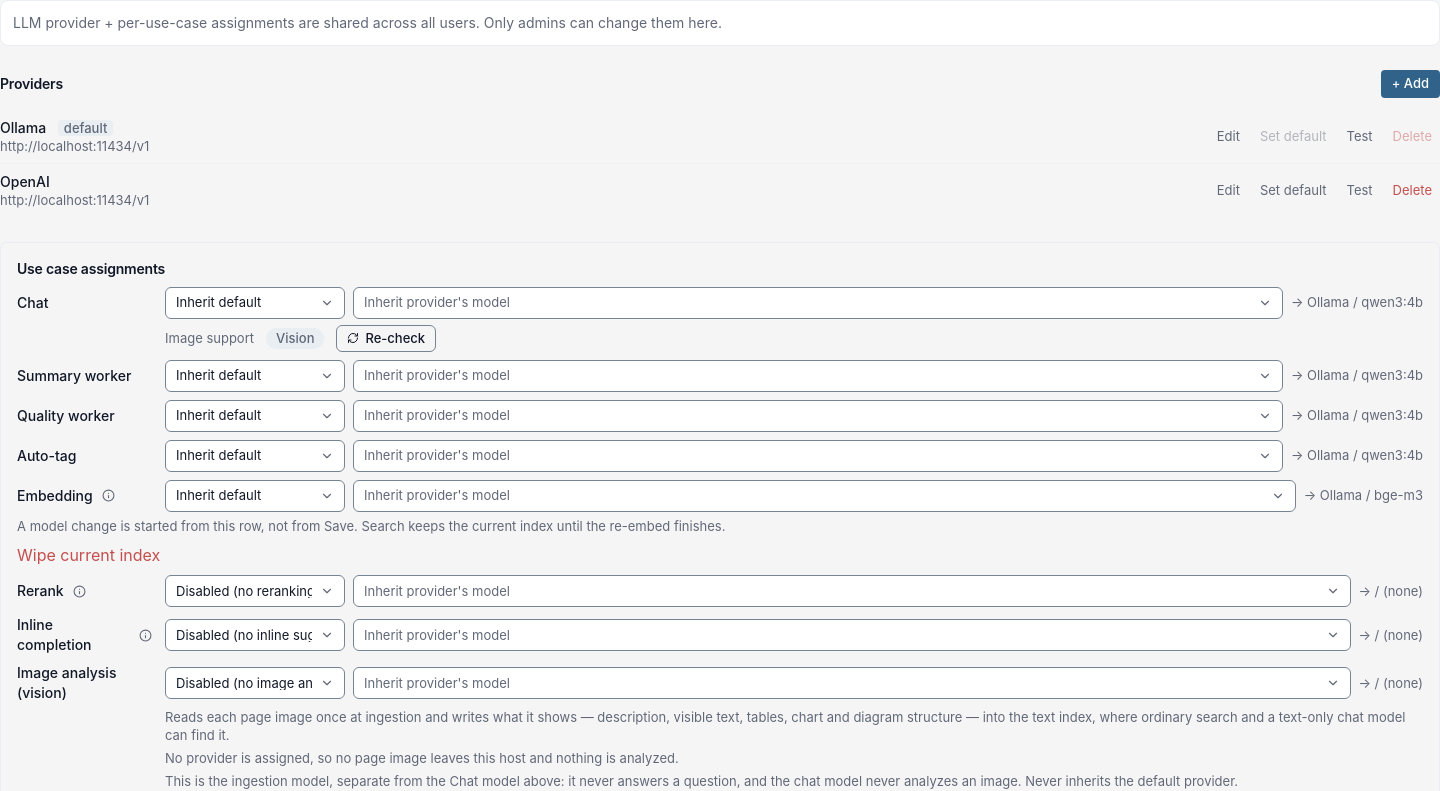
Test: LlmTab › reads embedding dimensions from /admin/settings and never requests /admin/embedding/dimensions
expect the heading "Use case assignments" is shown: met, box [17,260,165,277]
Click the button "Wipe current index" at [89, 555], box [17,543,160,567]
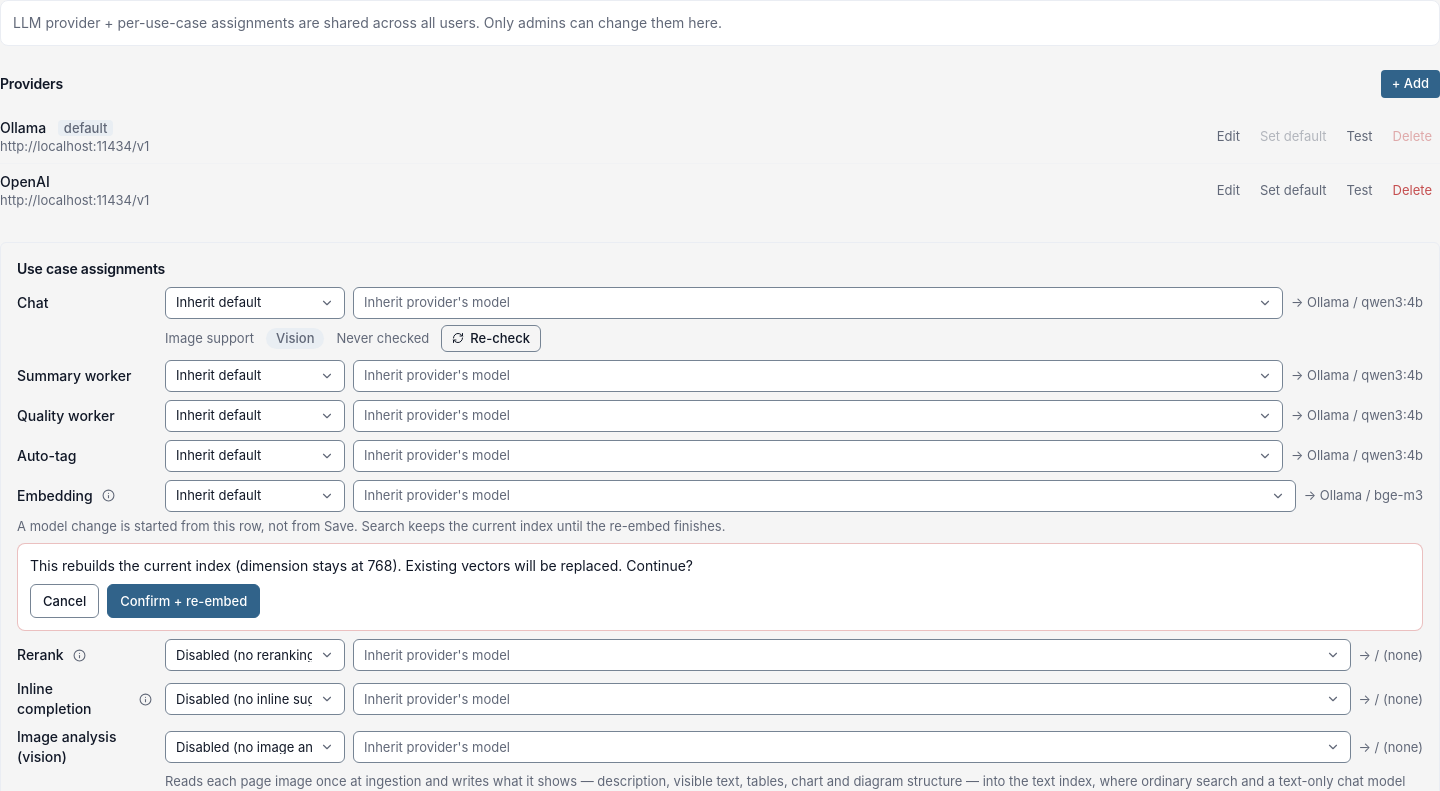
expect the text "dimension stays at 768" is shown: met, box [30,557,693,574]
